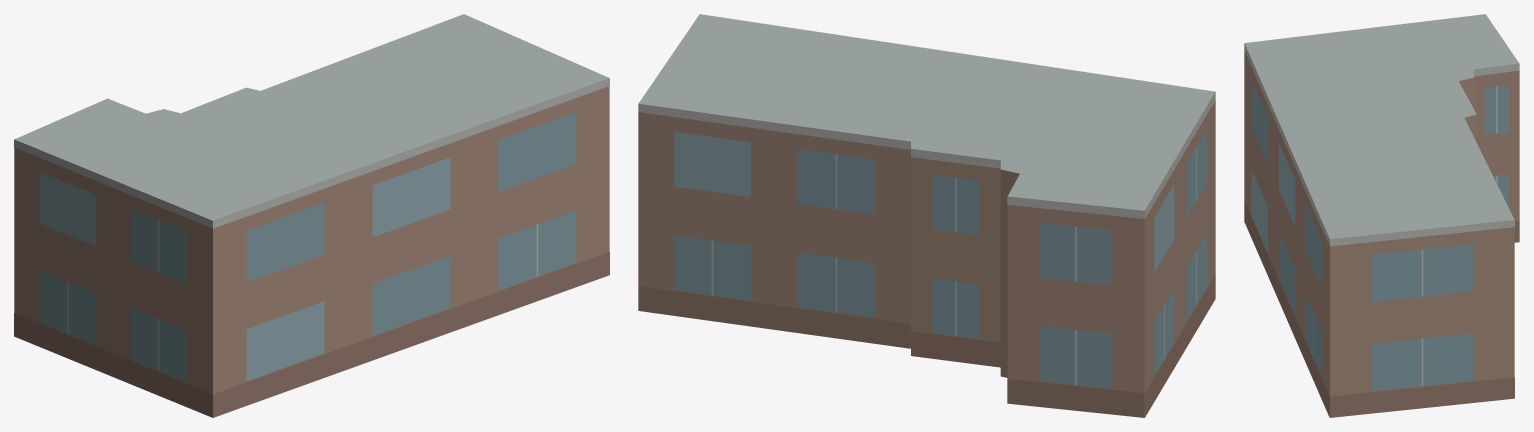
Rendered from survey-upis-32752467.glb.
3 renders of one model, left to right at view 1: azimuth 30°, elevation 25°; view 2: azimuth 150°, elevation 25°; view 3: azimuth 270°, elevation 25°, orthographic. The views are drawn at different scales.
Visible parts, largest first — view 1: survey-upis-32752467.tmp; view 2: survey-upis-32752467.tmp; view 3: survey-upis-32752467.tmp.
Part boxes in pixels (bbox=[...]): survey-upis-32752467.tmp: bbox=[14, 14, 609, 417]; survey-upis-32752467.tmp: bbox=[638, 14, 1215, 417]; survey-upis-32752467.tmp: bbox=[1244, 14, 1519, 417].
Size of the model in its own units: 16.52 by 6.1 by 8.53.
